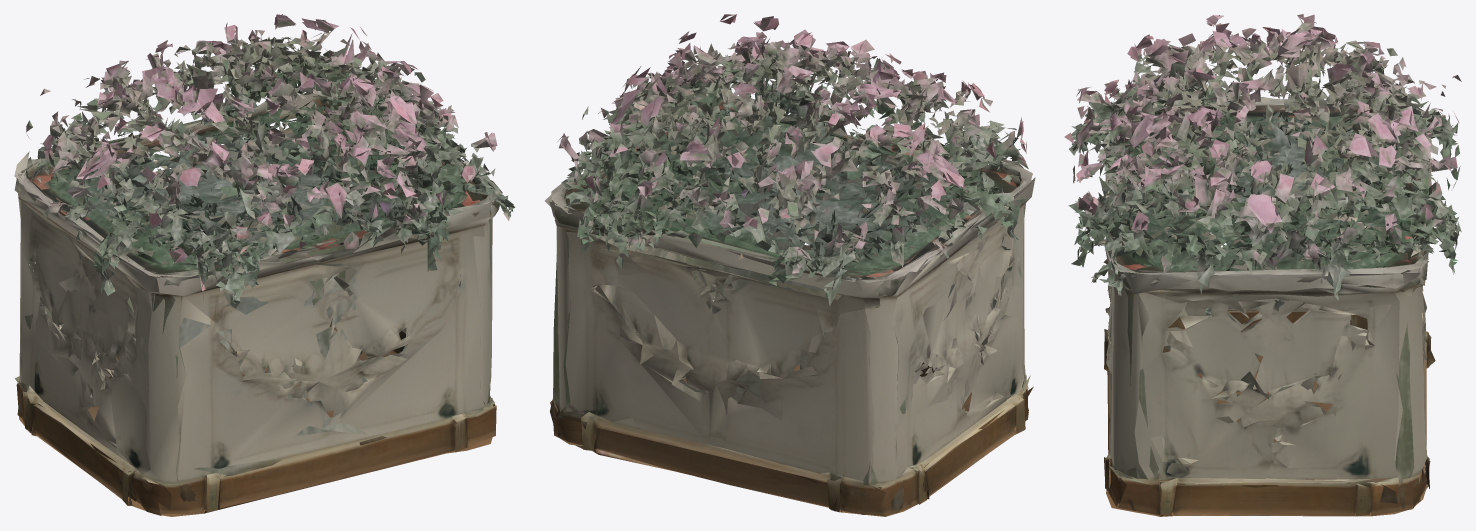
Rendered from unified--planter.glb.
The picture shows the model from 3 angles, left to right: view 1: azimuth 30°, elevation 25°; view 2: azimuth 150°, elevation 25°; view 3: azimuth 270°, elevation 25°; orthographic projection.
Parts seen in each view (by area): view 1: planter-1; view 2: planter-1; view 3: planter-1.
Boxes of the visible parts, x1=… form: planter-1: x1=14, y1=14, x2=514, y2=516; planter-1: x1=545, y1=14, x2=1035, y2=516; planter-1: x1=1064, y1=14, x2=1461, y2=516.
Bounding box in the file's own units: 1.21 × 1.12 × 1.08.
Materials: 1 (1 with a texture image).
